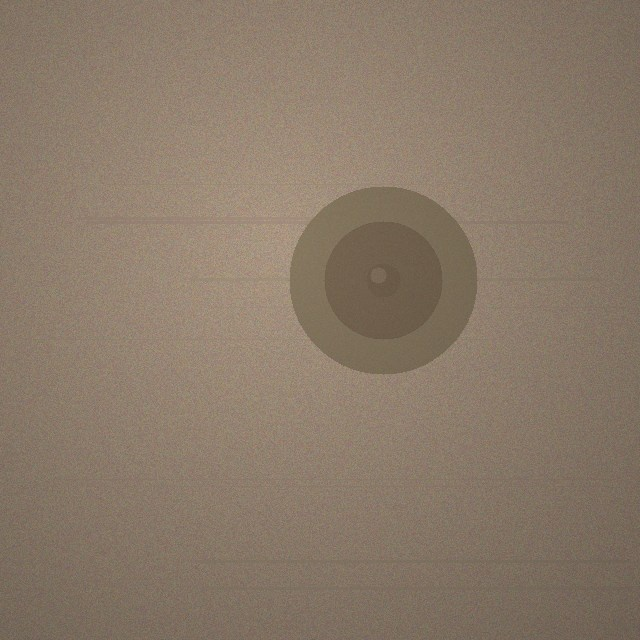good: (289, 186, 477, 374)
